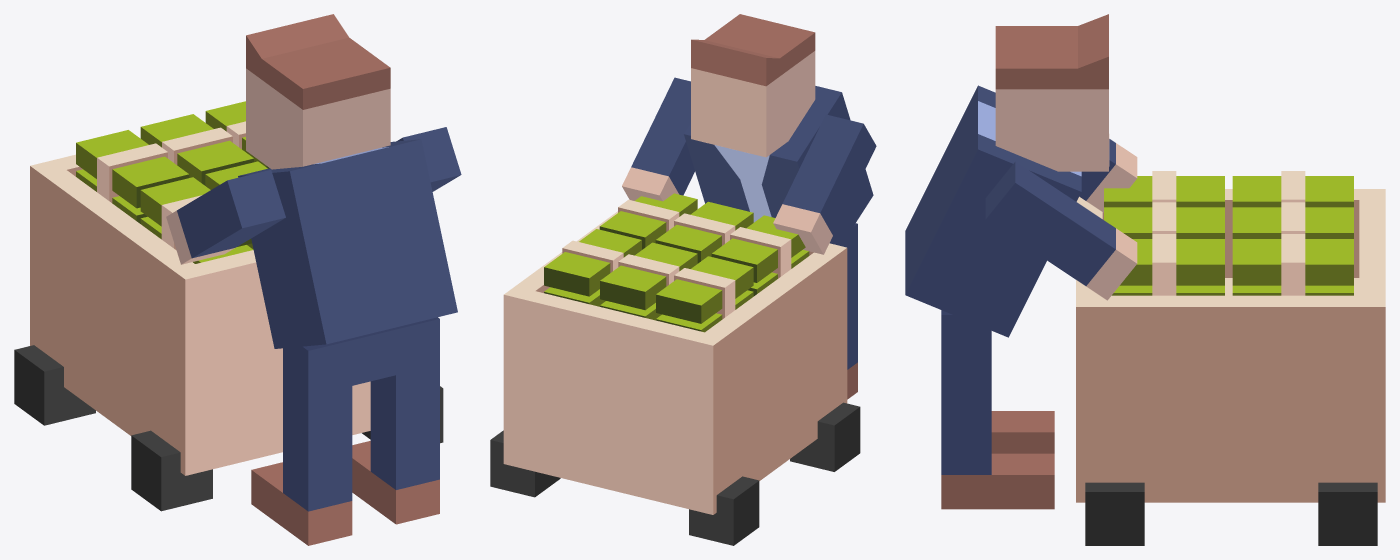
The model's file is office-worker-1.glb.
The picture shows the model from 3 angles, left to right: view 1: azimuth 30°, elevation 25°; view 2: azimuth 150°, elevation 25°; view 3: azimuth 270°, elevation 25°; orthographic projection. The views are drawn at different scales.
Parts seen in each view (by area): view 1: Cube.019, UNIT.083, UNIT.082, UNIT.081, Cube.022, UNIT.080, UNIT.079, UNIT.077, UNIT.078; view 2: Cube.019, Cube.022, UNIT.082, UNIT.083, UNIT.079, UNIT.078, UNIT.081; view 3: Cube.019, Cube.022, UNIT.083, UNIT.082, UNIT.080, UNIT.078, UNIT.081, UNIT.079.
Boxes of the visible parts, x1=… form: Cube.019: x1=14, y1=154, x2=443, y2=511; UNIT.083: x1=238, y1=139, x2=457, y2=348; UNIT.082: x1=246, y1=14, x2=390, y2=169; UNIT.081: x1=251, y1=332, x2=352, y2=545; Cube.022: x1=76, y1=101, x2=269, y2=263; UNIT.080: x1=352, y1=317, x2=439, y2=524; UNIT.079: x1=166, y1=170, x2=285, y2=264; UNIT.077: x1=350, y1=328, x2=395, y2=385; UNIT.078: x1=396, y1=127, x2=461, y2=191; Cube.019: x1=490, y1=211, x2=860, y2=545; Cube.022: x1=544, y1=193, x2=809, y2=332; UNIT.082: x1=691, y1=14, x2=815, y2=157; UNIT.083: x1=684, y1=86, x2=873, y2=245; UNIT.079: x1=773, y1=114, x2=876, y2=254; UNIT.078: x1=622, y1=77, x2=694, y2=201; UNIT.081: x1=841, y1=223, x2=857, y2=399; Cube.019: x1=1076, y1=189, x2=1385, y2=545; Cube.022: x1=1104, y1=171, x2=1353, y2=295; UNIT.083: x1=905, y1=85, x2=1081, y2=337; UNIT.082: x1=995, y1=14, x2=1109, y2=171; UNIT.080: x1=941, y1=310, x2=1054, y2=509; UNIT.078: x1=985, y1=161, x2=1137, y2=300; UNIT.081: x1=991, y1=411, x2=1054, y2=453; UNIT.079: x1=1079, y1=139, x2=1137, y2=212.
Bounding box in the file's own units: 0.9007 × 1.35 × 1.33.
Materials: 3 (3 with a texture image).
